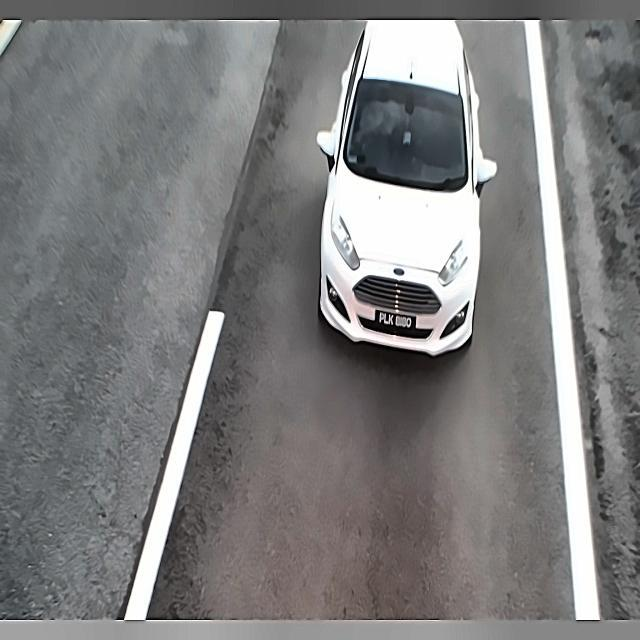car: (368, 302, 421, 344)
